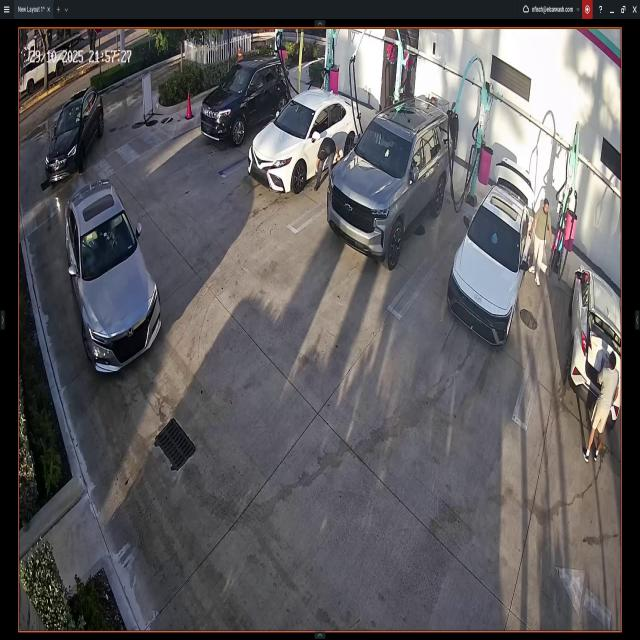Car: (59, 179, 161, 376), (337, 97, 448, 269), (450, 158, 535, 344), (252, 91, 361, 195), (568, 263, 620, 424), (199, 57, 287, 143), (42, 88, 104, 178)
